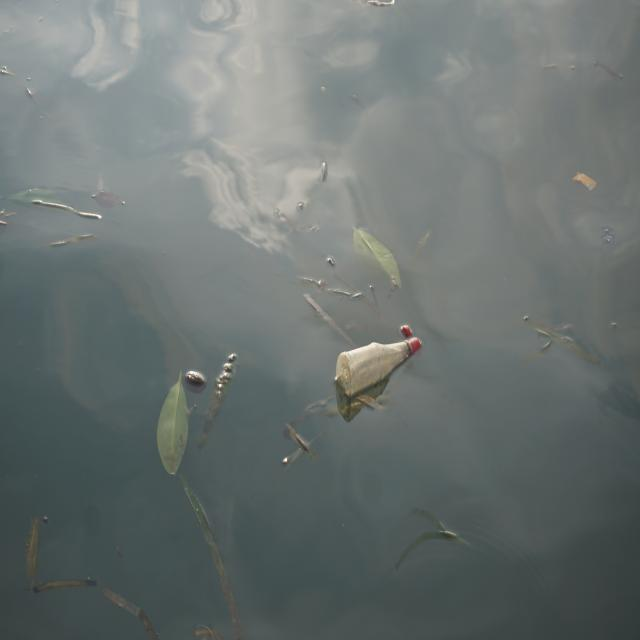Botol Plastik: (336, 320, 424, 405)
